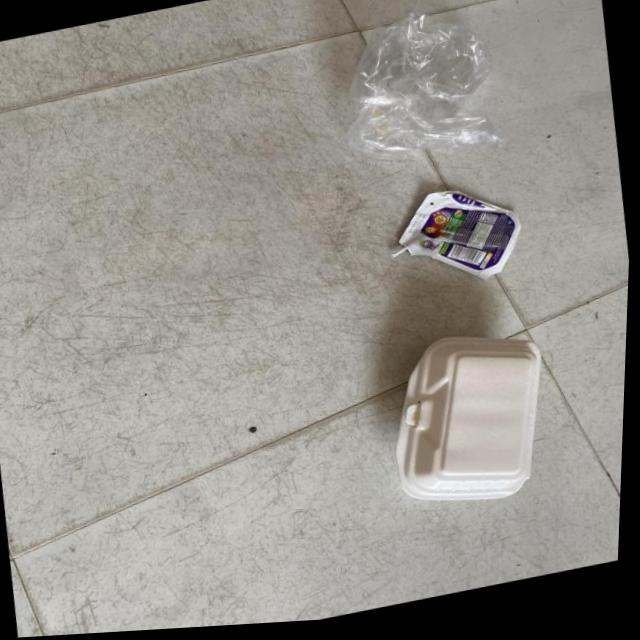leaf: (366, 180, 538, 316)
metal: (313, 0, 521, 195)
trash: (355, 313, 573, 526)
